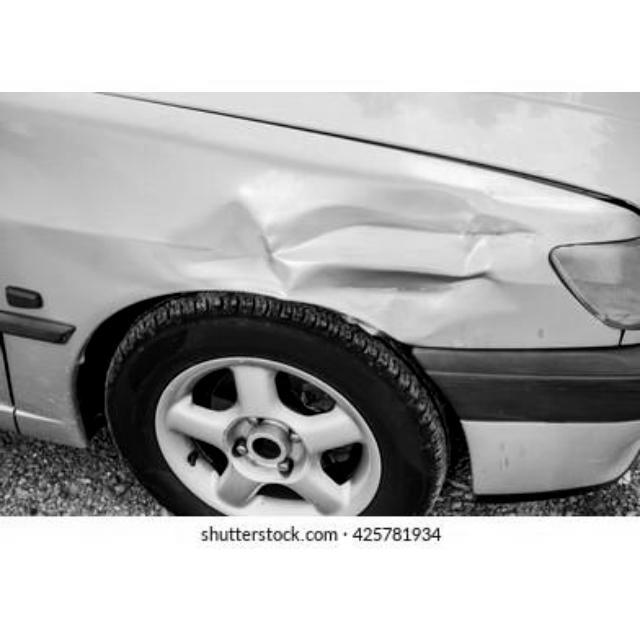fender-dent: (48, 122, 514, 404)
